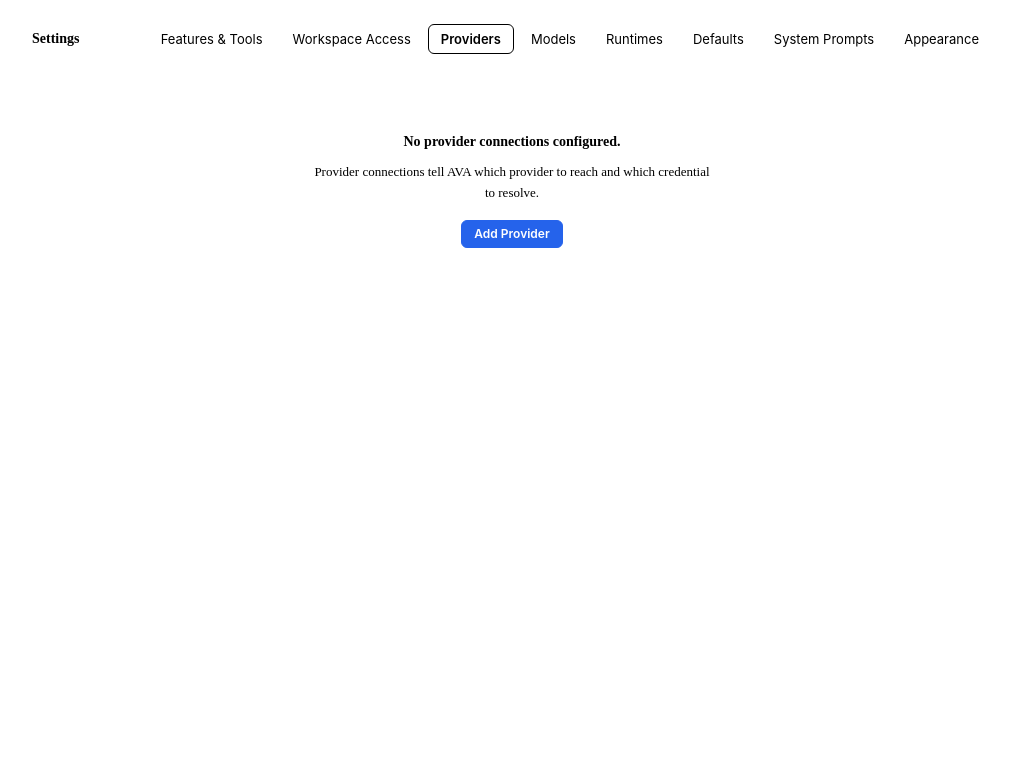
Test: Settings 5.15 boundary › offers an enabled toggle only inside a modal, never on a row
This screenshot has width=1024, height=768.
Expected: the element with test id "settings-workspace" is shown, [8,8,1016,312]
Click the tab "Runtimes" at {"x": 634, "y": 39}, box [593,24,676,54]
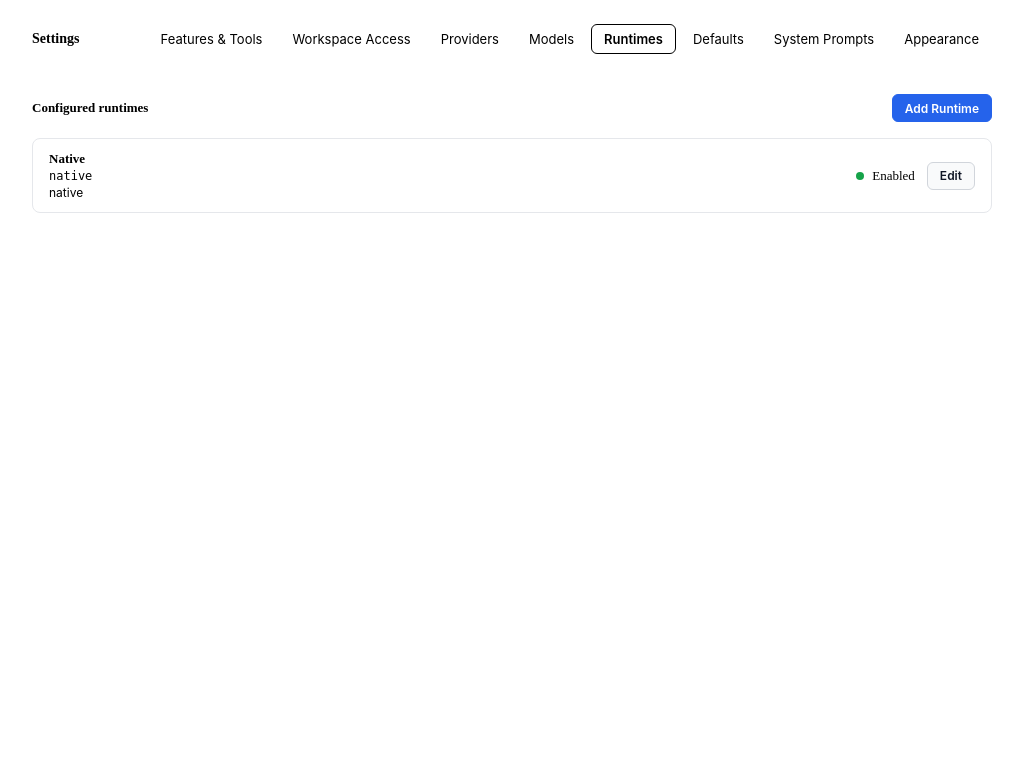
Expected: the text "Native" is shown, [49,151,85,166]
# The change happens through the explicit edit dialog instead.
Click the button "Edit" at {"x": 951, "y": 176}, box [927,162,975,190]
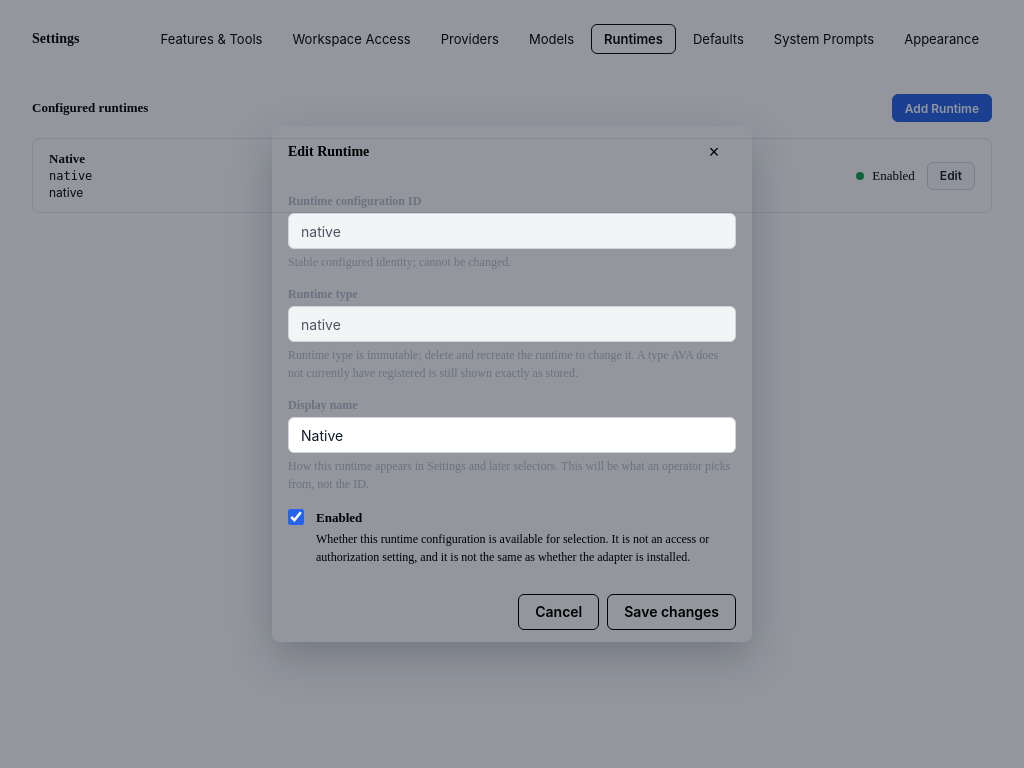
Expected: the dialog is shown, [272,126,752,642]
Expected: the checkbox labelled "Enabled" is shown, [288,509,304,525]
